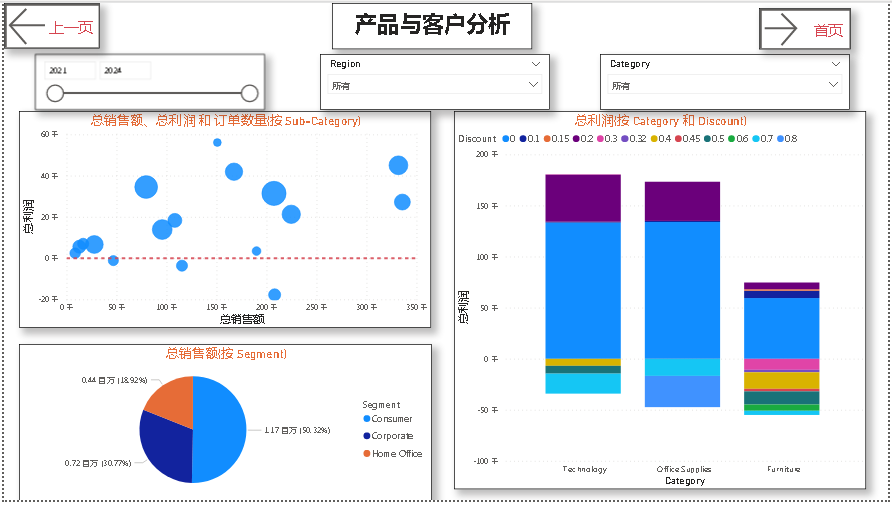

What the dashboard file says about the page in this screenshot:
{"tool":"powerbi","page":{"name":"第 3 页","canvas":[1280,720],"ordinal":2},"visuals":[{"type":"textbox","box":[474.9,0,289.7,67.4],"z":0},{"type":"scatterChart","fields":{"X":["Orders.总销售额"],"Y":["Orders.总利润"],"Category":["Orders.Sub-Category"],"Size":["Orders.订单数量"]},"box":[22.1,157,596.9,313.9],"z":1000},{"type":"pieChart","fields":{"Category":["Orders.Segment"],"Y":["Orders.总销售额"]},"box":[21.9,493.5,597.9,227.4],"z":2000},{"type":"columnChart","fields":{"Category":["Orders.Category"],"Y":["Orders.总利润"],"Series":["Orders.Discount"]},"box":[652.2,157,596.9,548.3],"z":3000},{"type":"slicer","fields":{"Values":["日期表.年份"]},"box":[45.5,74.1,333.5,80.8],"z":4000},{"type":"slicer","fields":{"Values":["Orders.Region"]},"box":[458.1,74.1,333.5,80.8],"z":5000},{"type":"slicer","fields":{"Values":["Orders.Category"]},"box":[864,74.1,362.1,80.8],"z":6000},{"type":"actionButton","box":[0,0,139.3,66.3],"z":7000},{"type":"actionButton","box":[1094.3,6.6,132.6,59.7],"z":8000}]}

Visuals, with their boxes in screenshot pixels (x1, y1, x2, y2), scaled from the page's 1280x720 canvas onto the 892x505 screenshot:
textbox: x1=331, y1=0, x2=533, y2=47
scatterChart - Orders.总销售额 x Orders.总利润: x1=15, y1=110, x2=431, y2=330
pieChart - Orders.Segment x Orders.总销售额: x1=15, y1=346, x2=432, y2=504
columnChart - Orders.Category x Orders.总利润: x1=455, y1=110, x2=870, y2=495
slicer - 日期表.年份: x1=32, y1=52, x2=264, y2=109
slicer - Orders.Region: x1=319, y1=52, x2=552, y2=109
slicer - Orders.Category: x1=602, y1=52, x2=854, y2=109
actionButton: x1=0, y1=0, x2=97, y2=47
actionButton: x1=763, y1=5, x2=855, y2=47
